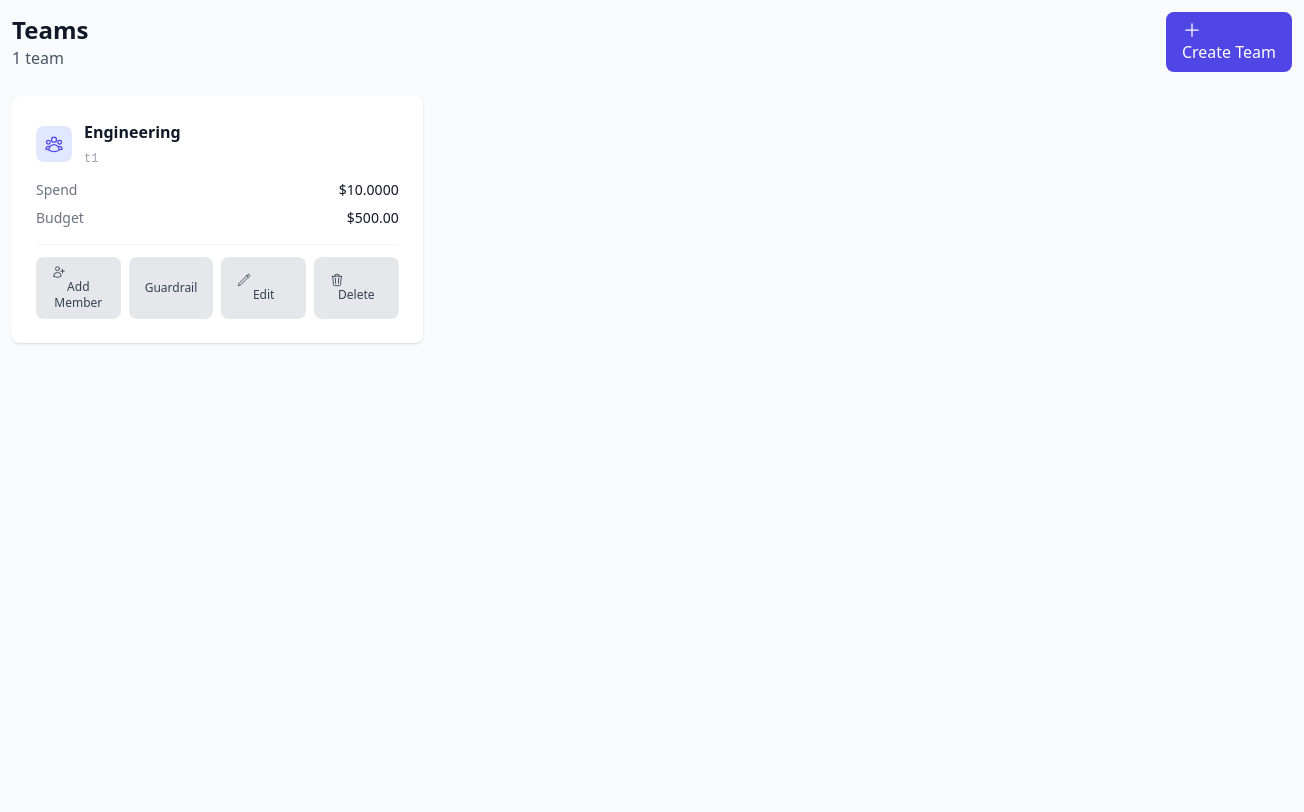
Test: Teams › opens create form when Create Team clicked
Click the button "Create Team". click: (1229, 42)
box: [1166, 12, 1292, 72]
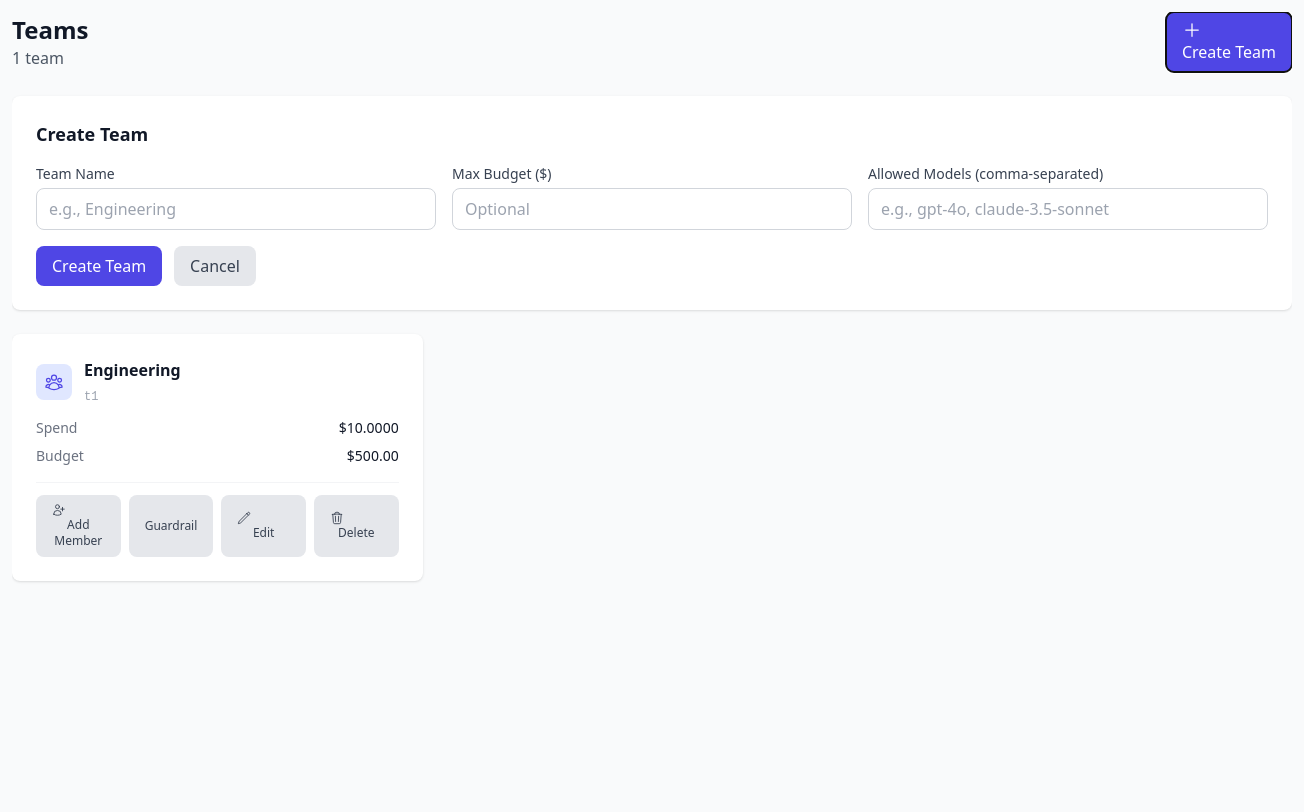
Now the field labelled "Team Name" is shown, box [36, 188, 436, 230]
